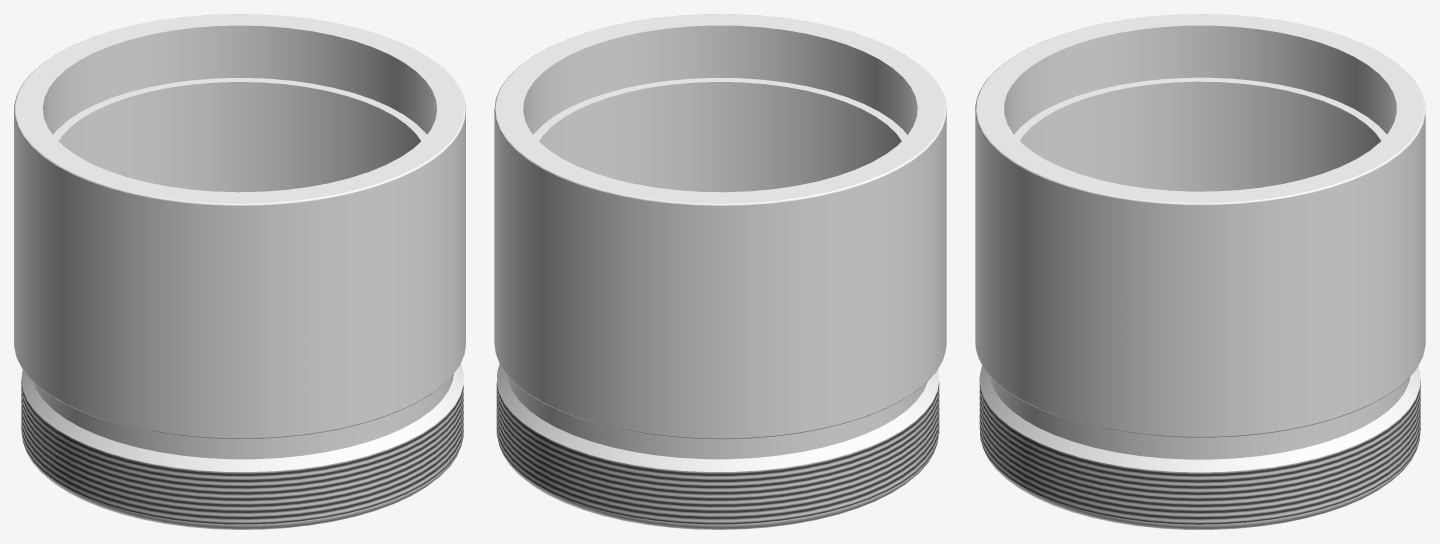
File: coperchio sotto.glb
3 renders of one model, left to right at view 1: azimuth 30°, elevation 25°; view 2: azimuth 150°, elevation 25°; view 3: azimuth 270°, elevation 25°, orthographic.
Parts seen in each view (by area): view 1: 09.Corpo2_Valv..003; view 2: 09.Corpo2_Valv..003; view 3: 09.Corpo2_Valv..003.
Part boxes in pixels (box(x1,y1,x2,y2)): 09.Corpo2_Valv..003: box(14, 14, 465, 529); 09.Corpo2_Valv..003: box(494, 14, 946, 529); 09.Corpo2_Valv..003: box(975, 14, 1425, 529).
Size of the model in its own units: 0.8385 by 0.6785 by 0.8385.
2 materials, 2 textured.
